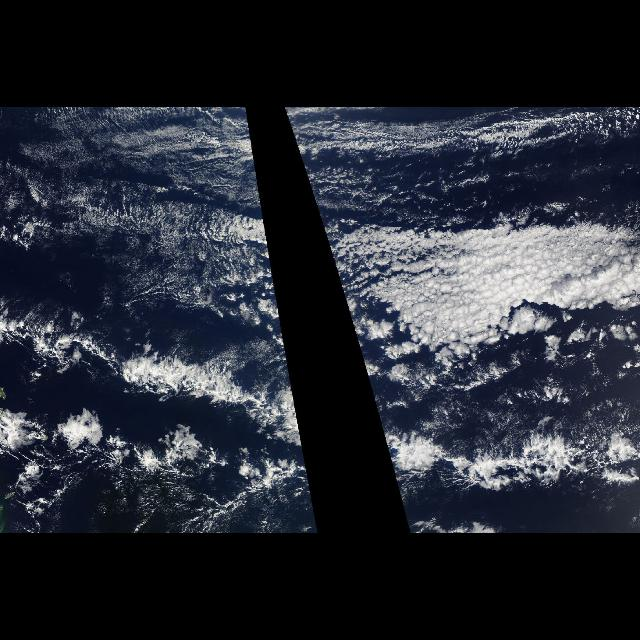Flower: (309, 188, 636, 382)
Sugar: (8, 114, 192, 250)
